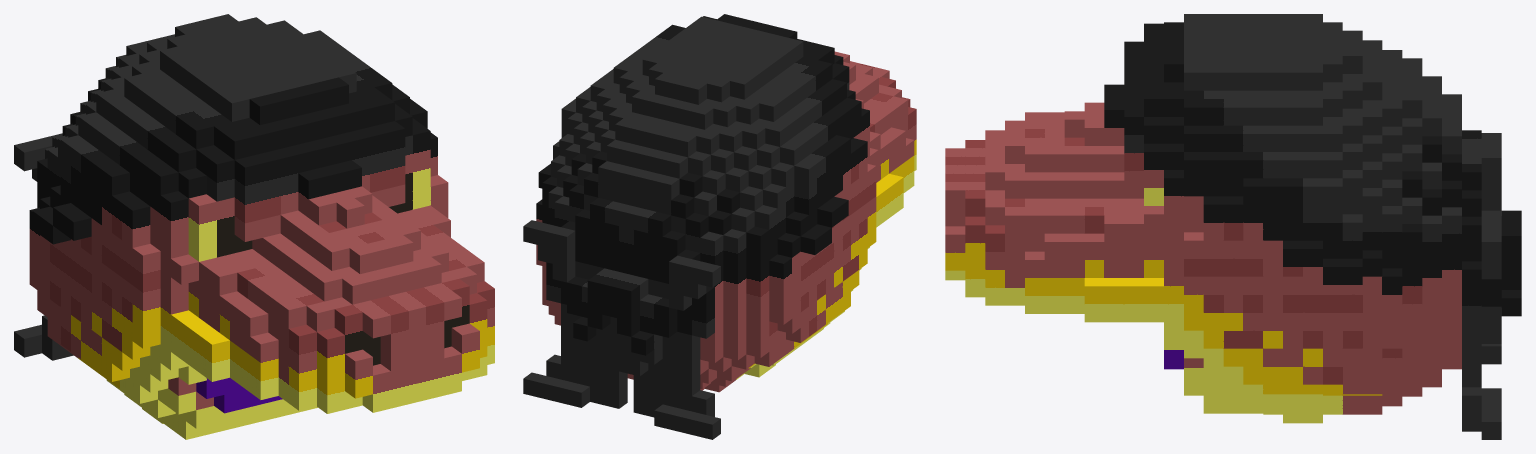
The model's file is black durag_skydiving goggles.gltf.
The picture shows the model from 3 angles, left to right: view 1: azimuth 30°, elevation 25°; view 2: azimuth 150°, elevation 25°; view 3: azimuth 270°, elevation 25°; orthographic projection. The views are drawn at different scales.
Parts seen in each view (by area): view 1: C17_H_blacDurag_sky-Mesh; view 2: C17_H_blacDurag_sky-Mesh; view 3: C17_H_blacDurag_sky-Mesh.
Boxes of the visible parts, <box> form: C17_H_blacDurag_sky-Mesh: <box>14,14,494,439</box>; C17_H_blacDurag_sky-Mesh: <box>523,14,916,439</box>; C17_H_blacDurag_sky-Mesh: <box>945,14,1521,439</box>.
Bounding box in the file's own units: 19 × 19 × 29.
1 material, 1 textured.
